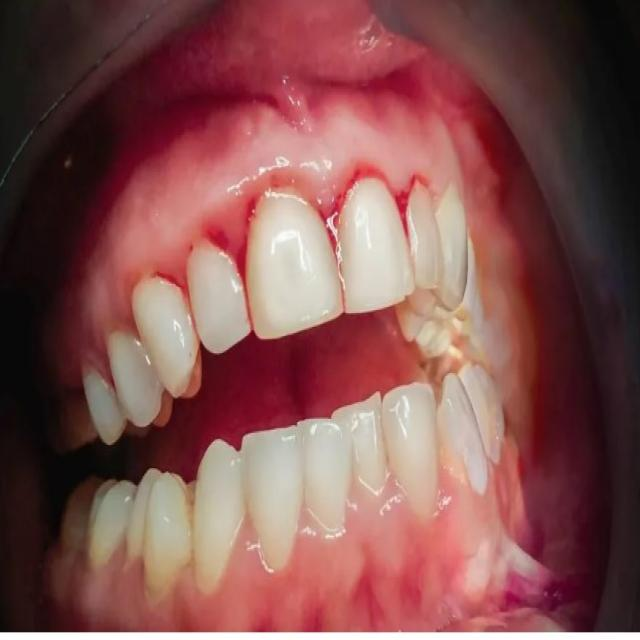Gingivitis: (349, 539, 427, 630), (187, 204, 252, 256), (310, 188, 350, 256), (386, 170, 416, 240), (153, 260, 190, 294)
